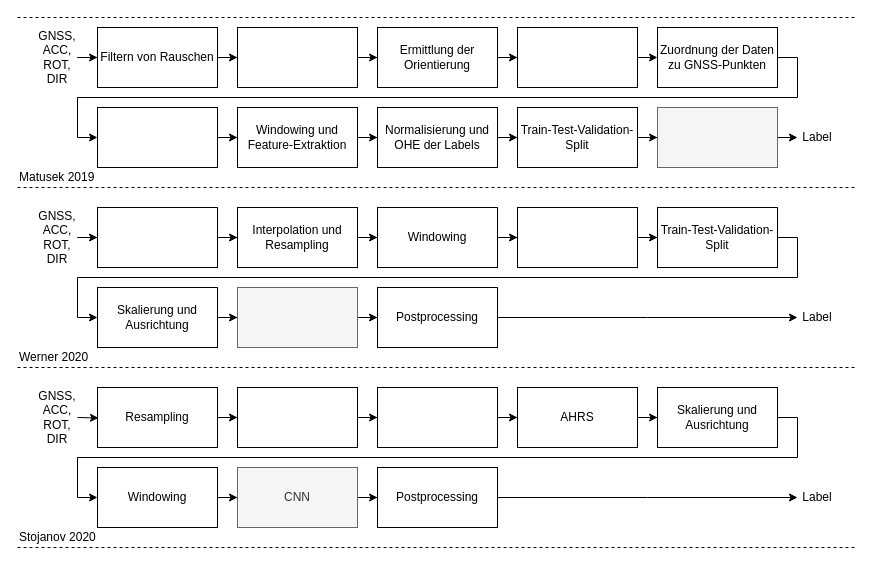
Image size: 876x566. Some labels were removed from this diagram. Each missing label, with the centre of its shape:
AHRS, Feature-Berechnung: the point at 577,237
Alignment: the point at 437,417
Alignment der lokalen kinematischen Sensordaten: the point at 297,57
Downsampling der Sensordaten über Interpolation: the point at 577,57
Feature-Berechnung: the point at 297,417
FFN: the point at 717,137
Glättung: the point at 157,237
Korrektur der GPS-Position über Kalman-Filter: the point at 157,137
RNN-LSTM: the point at 297,317
